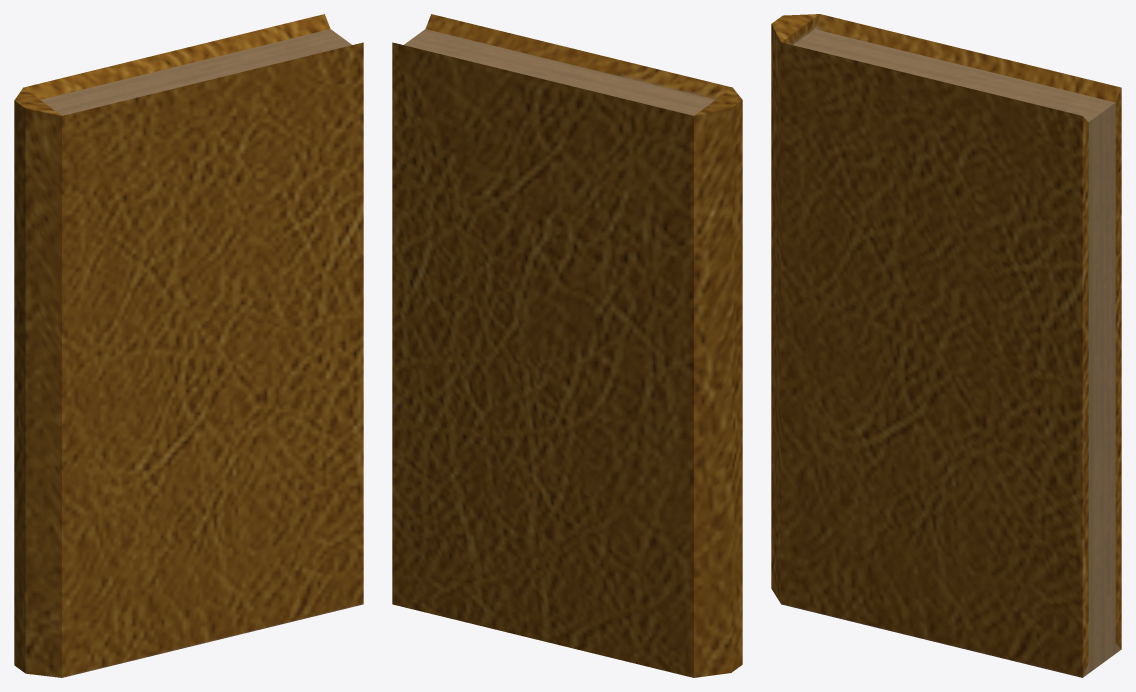
The model's file is Book color 2.fbx.
3 renders of one model, left to right at view 1: azimuth 30°, elevation 25°; view 2: azimuth 150°, elevation 25°; view 3: azimuth 330°, elevation 25°, orthographic.
Parts seen in each view (by area): view 1: Cube; view 2: Cube; view 3: Cube.
Part boxes in pixels (bbox=[...]): Cube: bbox=[14, 14, 363, 677]; Cube: bbox=[392, 14, 742, 677]; Cube: bbox=[771, 14, 1121, 677].
Bounding box in the file's own units: 121 × 201 × 25.05.
Materials: 1 (1 with a texture image).
